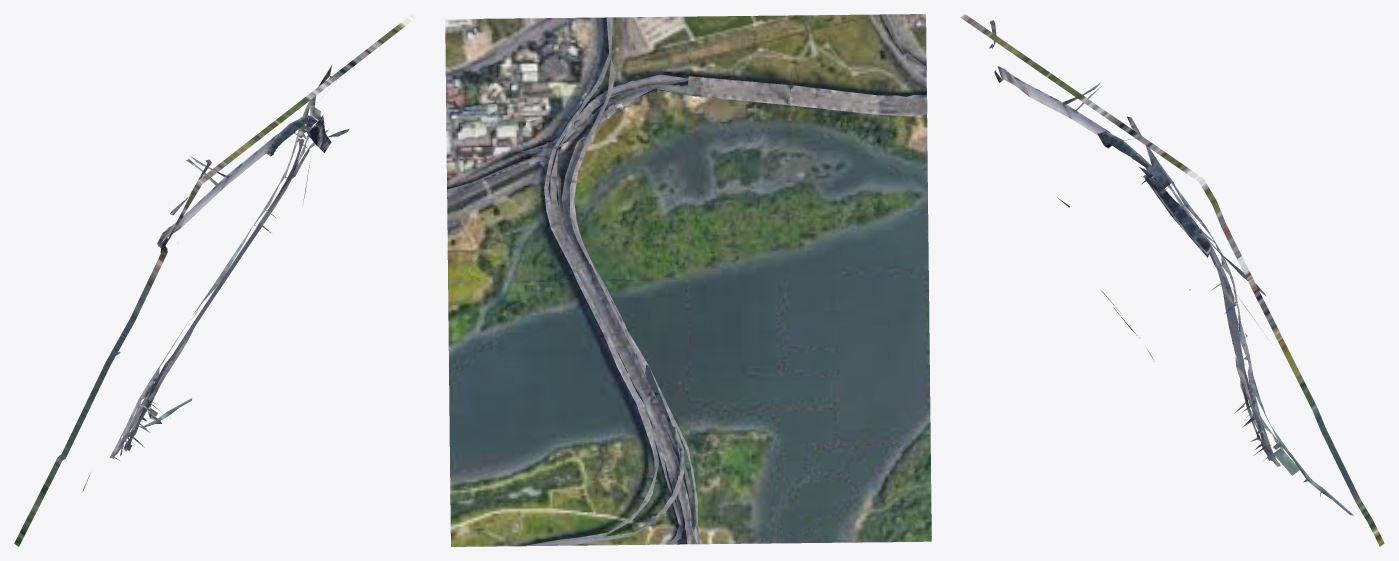
3 views of the same model, side by side, from view 1: azimuth 30°, elevation 25°; view 2: azimuth 150°, elevation 25°; view 3: azimuth 270°, elevation 25° (orthographic). The views are drawn at different scales.
Size of the model in its own units: 1222 by 1124 by 1030.
Materials: 1 (1 with a texture image).
